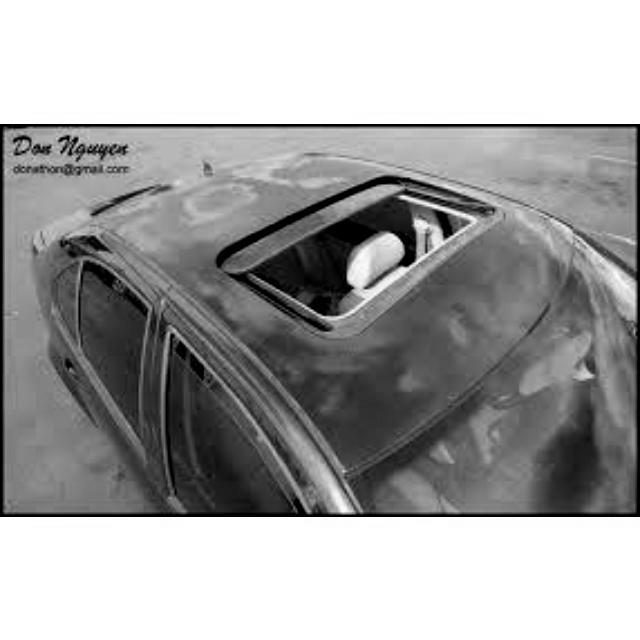roof-dent: (119, 150, 385, 324)
